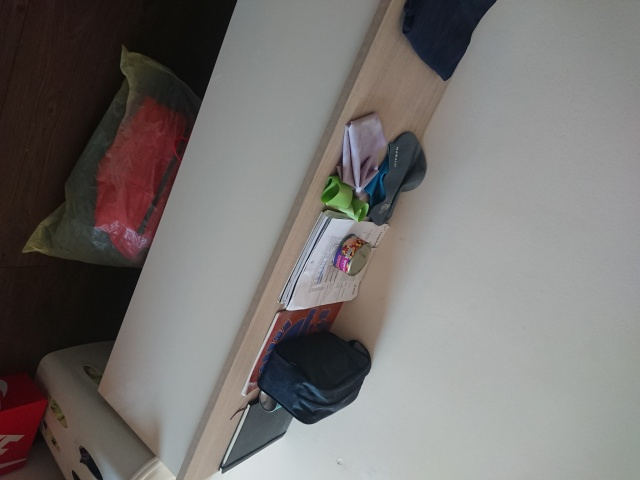Giana Tuna Salad Mexico 185g: (330, 231, 374, 278)
